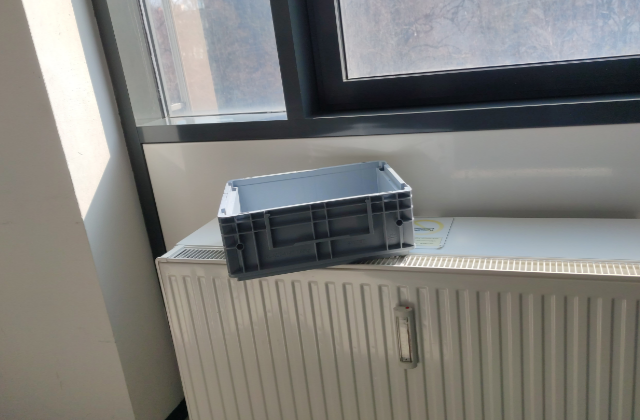Box: (216, 158, 417, 282)
